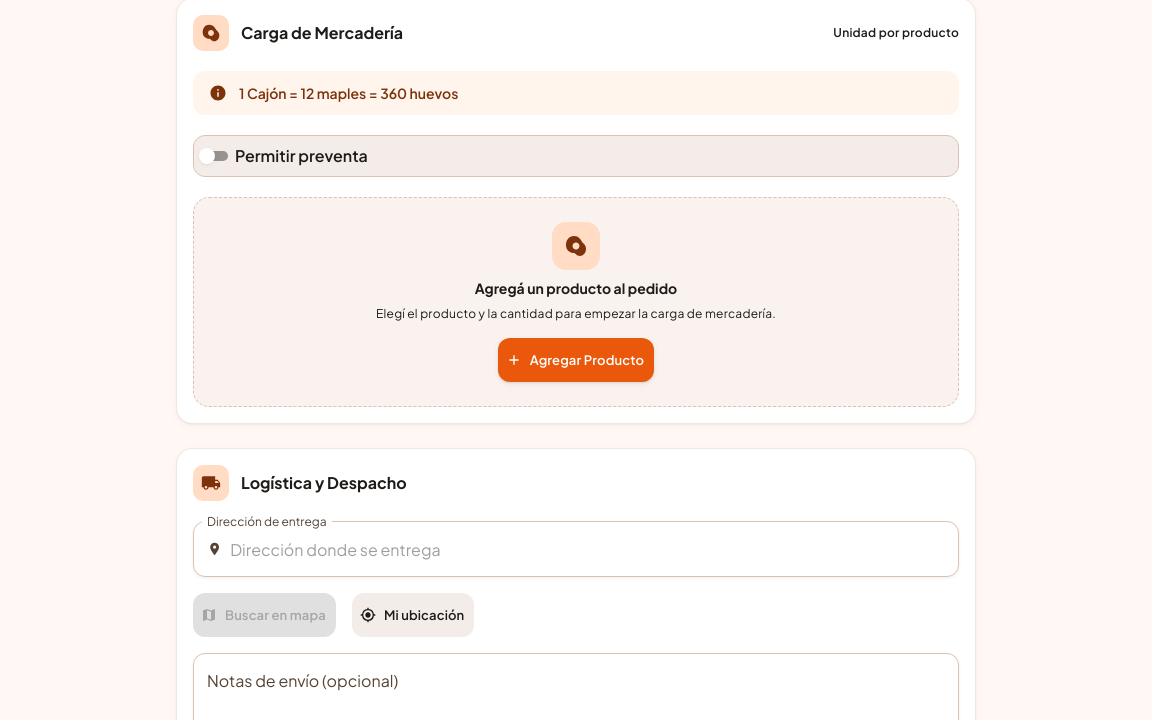
Test: NewOrderPage — empty order + stock gating › marks the row in error when the quantity exceeds the available stock
Later steps or results of the test are not shown.
(page scrolled)
Expected: the text "Agregá un producto al pedido" is shown, [475,278,677,298]
Click the button "Agregar Producto" at (576, 360), box [498,338,654,382]
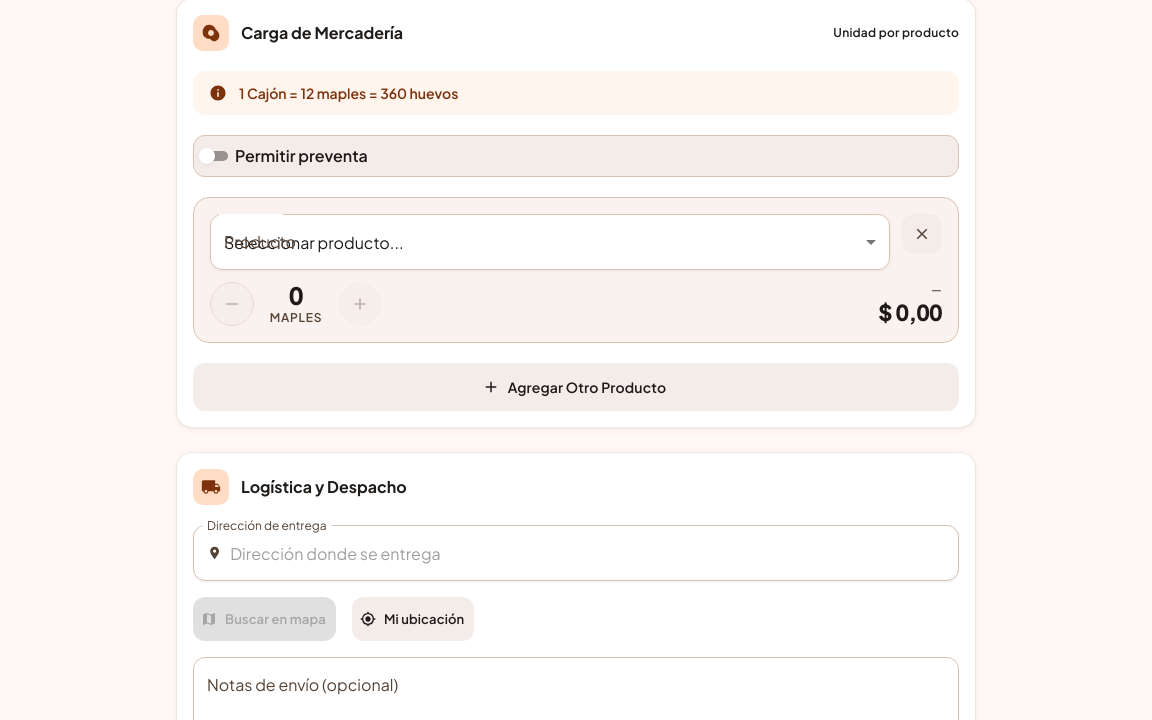
Press the mouse on the dropdown labelled "producto" at (314, 242), box [224,232,404,252]
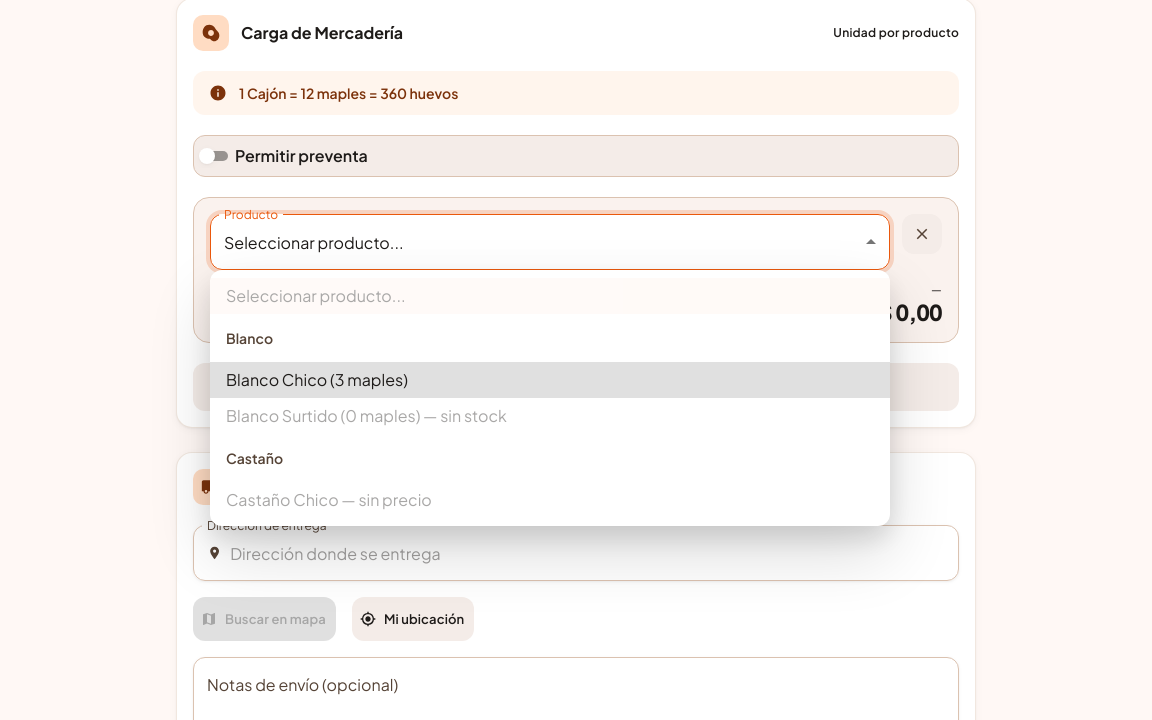
Click the option "Blanco Chico (3 maples)" at (317, 380), box [210,362,890,398]
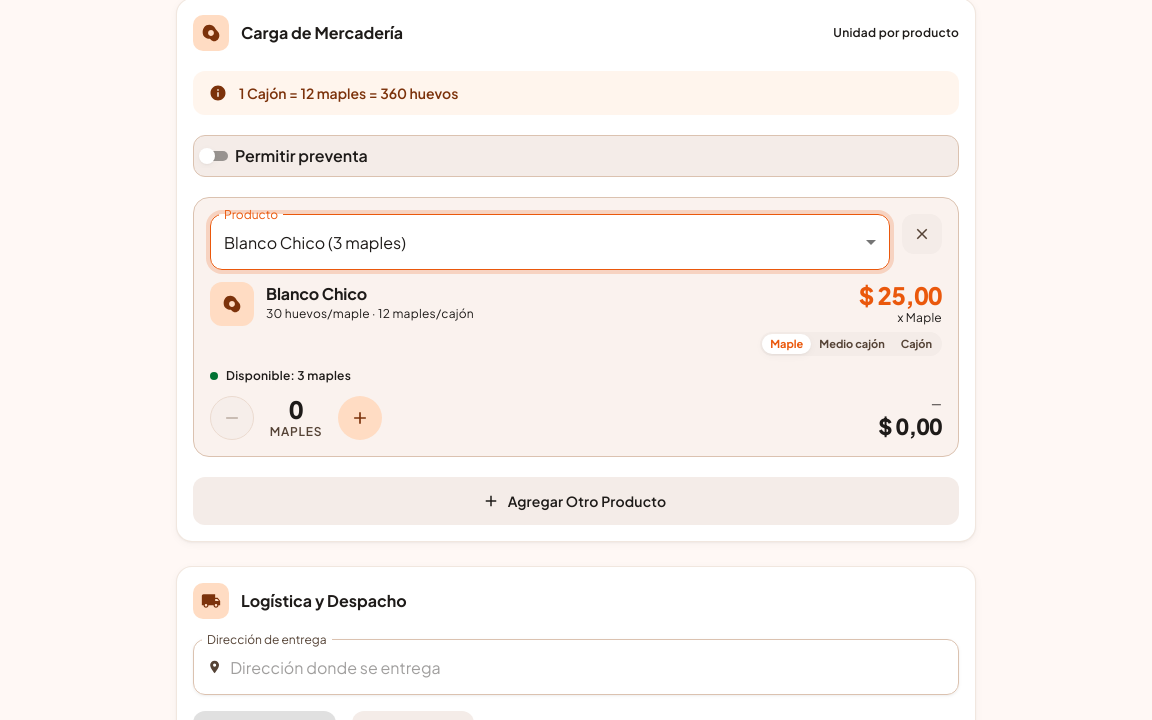
Result: the text "Disponible: 3 maples" is shown at [226,368,351,384]
